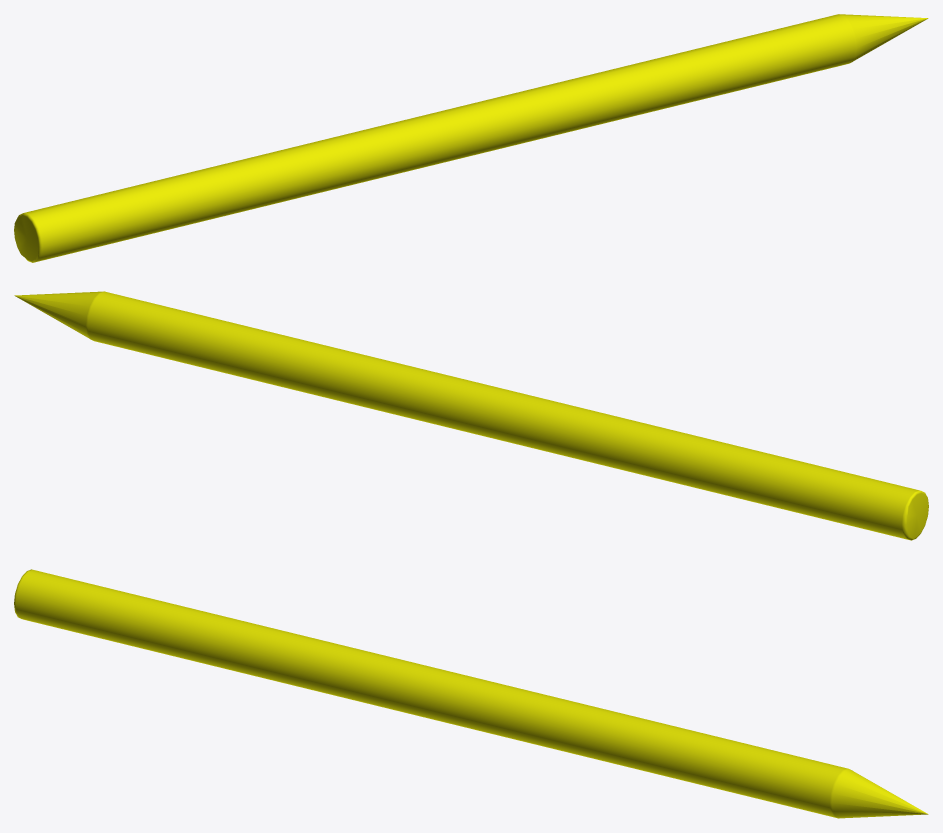
The model's file is Pencil_low.fbx.
The picture shows the model from 3 angles, top to bottom: view 1: azimuth 30°, elevation 25°; view 2: azimuth 150°, elevation 25°; view 3: azimuth 330°, elevation 25°; orthographic projection.
Visible parts, largest first — view 1: Pencil_low; view 2: Pencil_low; view 3: Pencil_low.
Part boxes in pixels (x1,y1,x2,y2): Pencil_low: (14,14,928,262); Pencil_low: (14,291,928,540); Pencil_low: (14,569,928,818).
Bounding box in the file's own units: 40.94 × 2 × 2.
